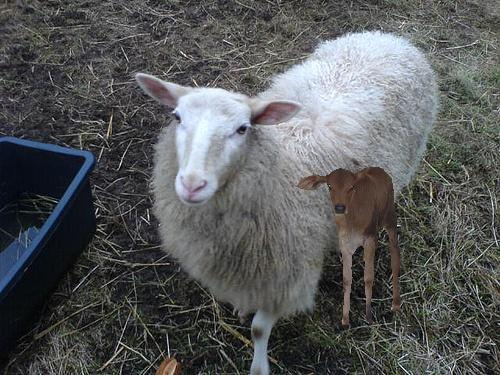tampered: (297, 168, 400, 325)
